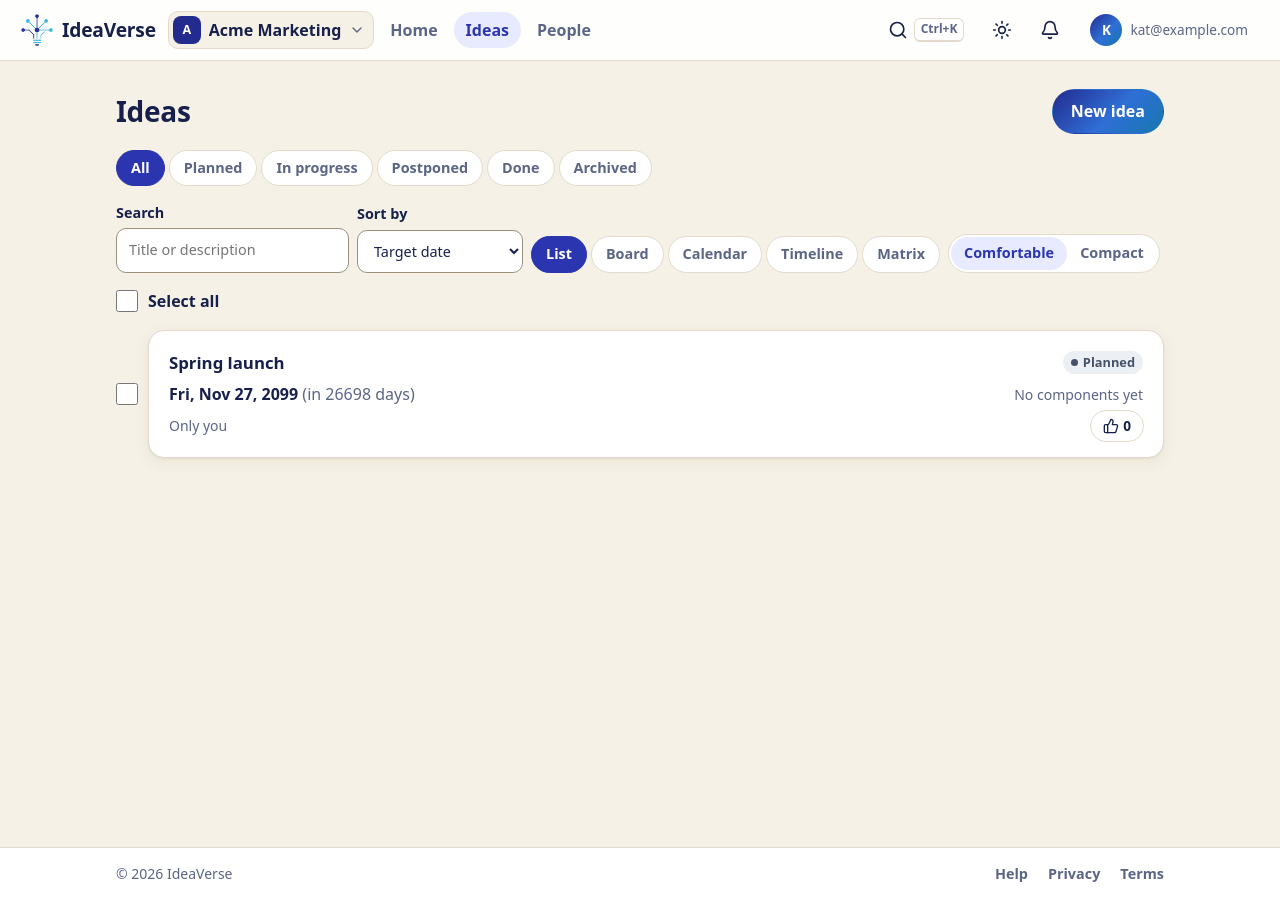
Command palette › switches to another workspace
Check: the heading "Ideas" is shown, box [116,94,191,129]
Type keys "{Control>}k{/Control}"
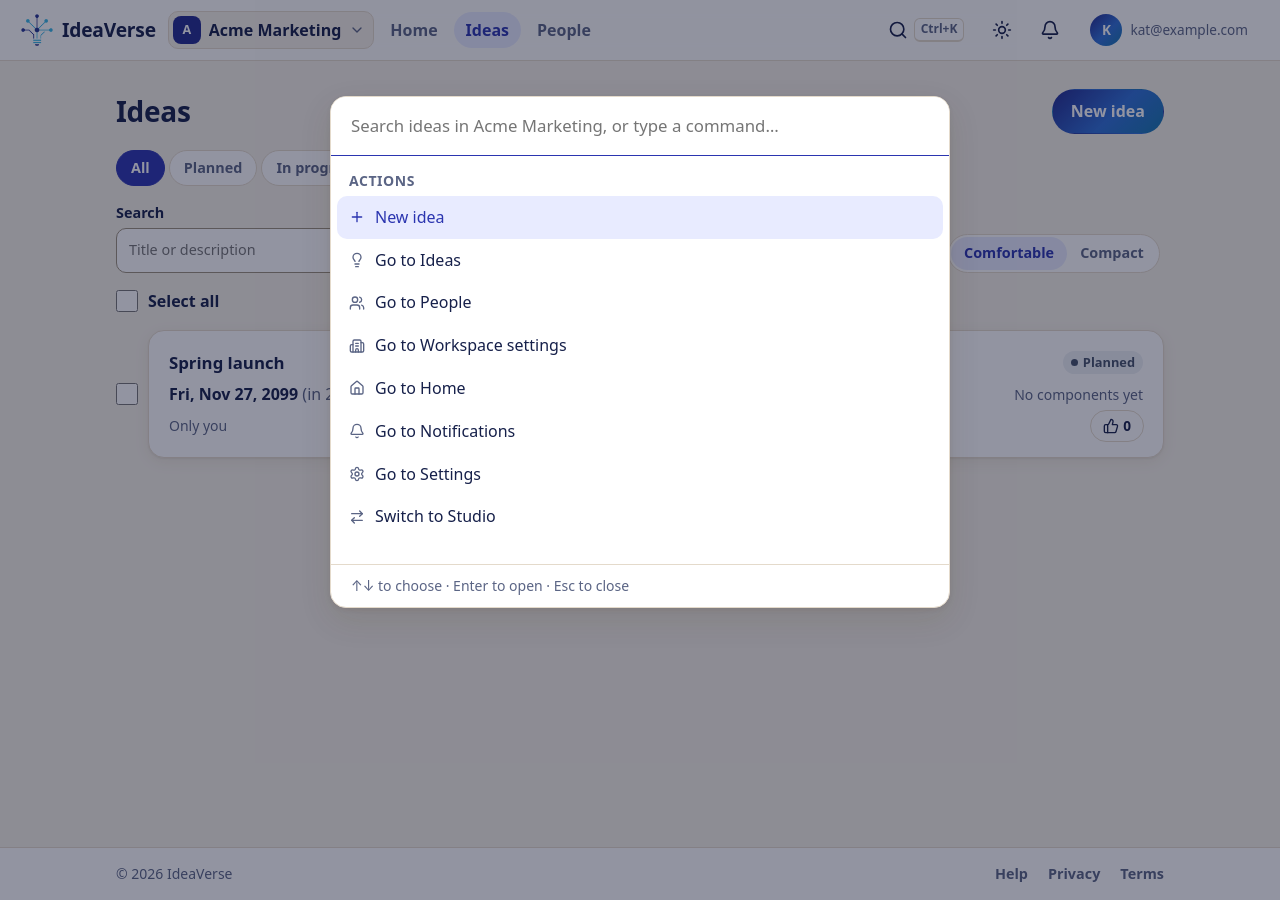
Type "studio" into the dropdown named "Search ideas or type a command" at (640, 126), box [331,97,949,156]
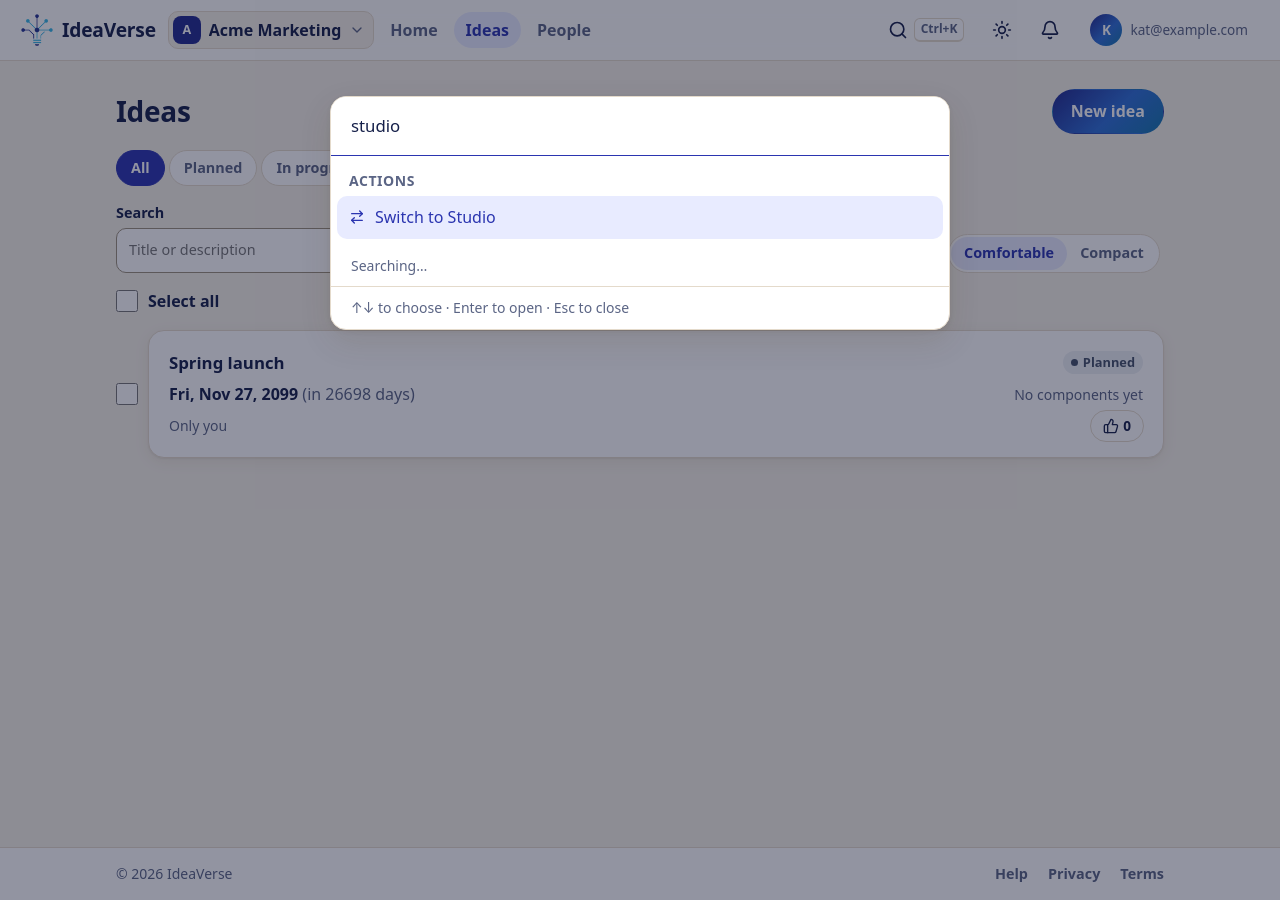
Press Enter
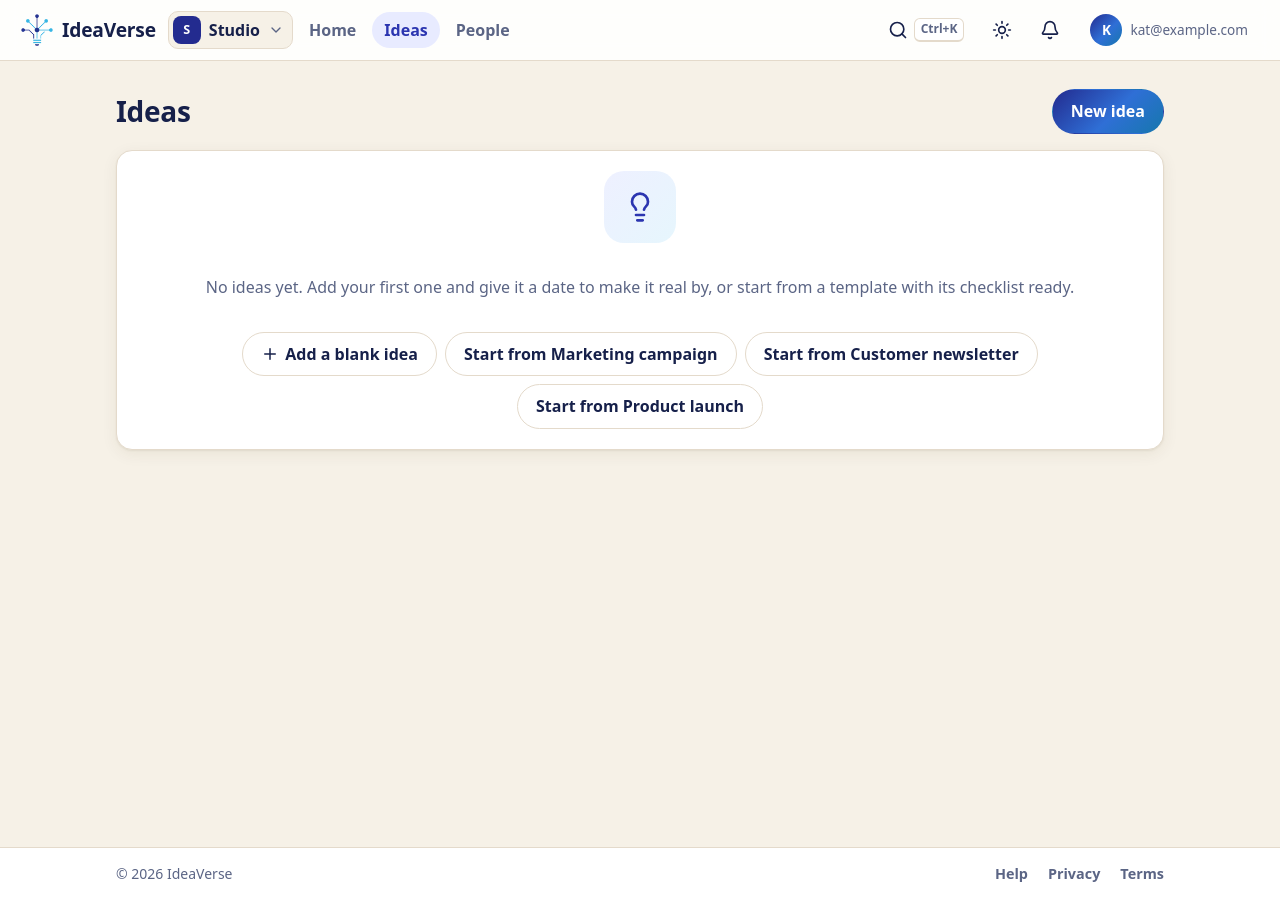
Check: the button with aria-label "Workspace: Studio" is shown, box [168,11,293,49]
